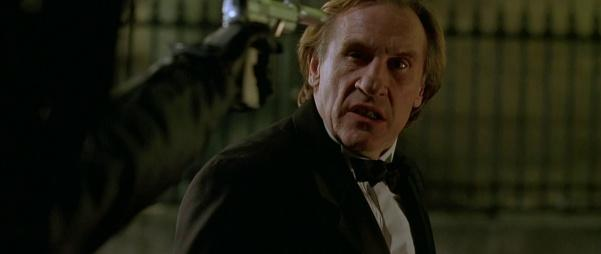Gun: (221, 0, 333, 115)
